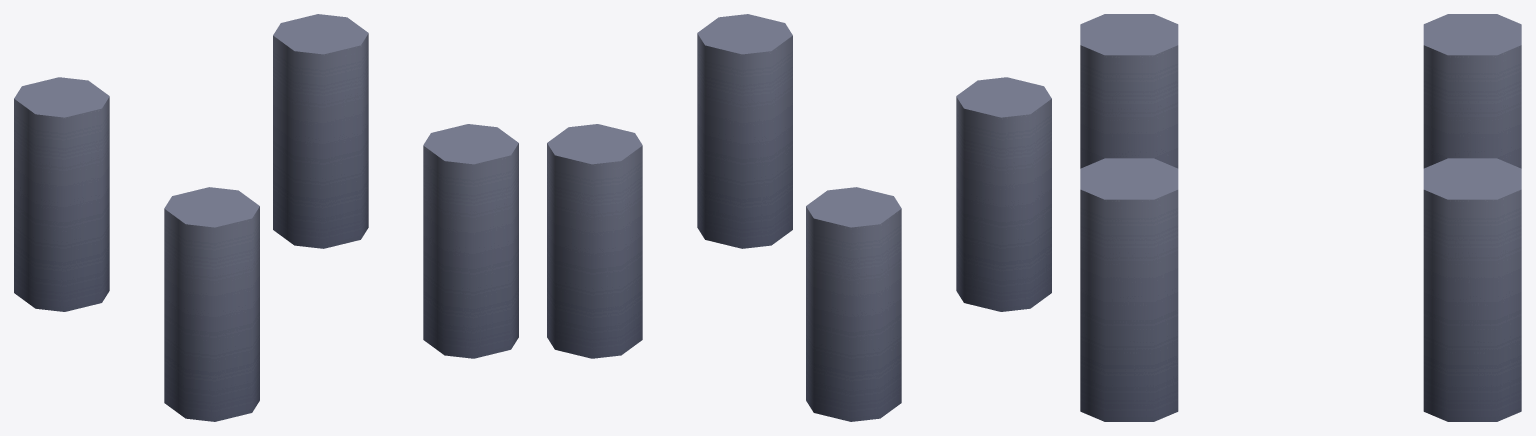
The model's file is support-four-middle-col.glb.
3 views of the same model, side by side, from view 1: azimuth 30°, elevation 25°; view 2: azimuth 150°, elevation 25°; view 3: azimuth 270°, elevation 25° (orthographic). The views are drawn at different scales.
Parts seen in each view (by area): view 1: support-four-middle-col; view 2: support-four-middle-col; view 3: support-four-middle-col.
Part boxes in pixels (<box>): support-four-middle-col: <box>14,14,518,421</box>; support-four-middle-col: <box>547,14,1051,421</box>; support-four-middle-col: <box>1080,14,1521,421</box>.
Size of the model in its own units: 0.8969 by 0.5 by 0.9.
1 material, 1 textured.
